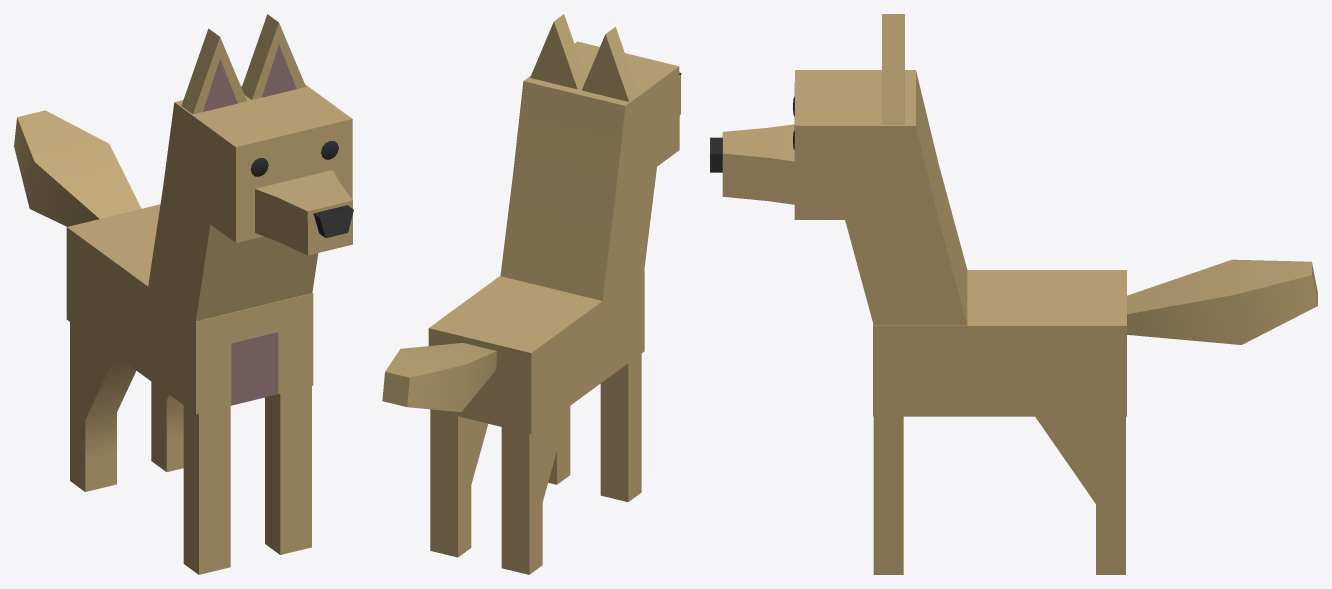
File: HwangGoo.fbx
The picture shows the model from 3 angles, left to right: view 1: azimuth 30°, elevation 25°; view 2: azimuth 150°, elevation 25°; view 3: azimuth 270°, elevation 25°; orthographic projection. The views are drawn at different scales.
Parts seen in each view (by area): view 1: HwangGoo; view 2: HwangGoo; view 3: HwangGoo.
Part boxes in pixels (<box>): HwangGoo: <box>14,14,353,574</box>; HwangGoo: <box>382,14,681,574</box>; HwangGoo: <box>710,14,1317,574</box>.
Bounding box in the file's own units: 19.73 × 90.28 × 85.06.
